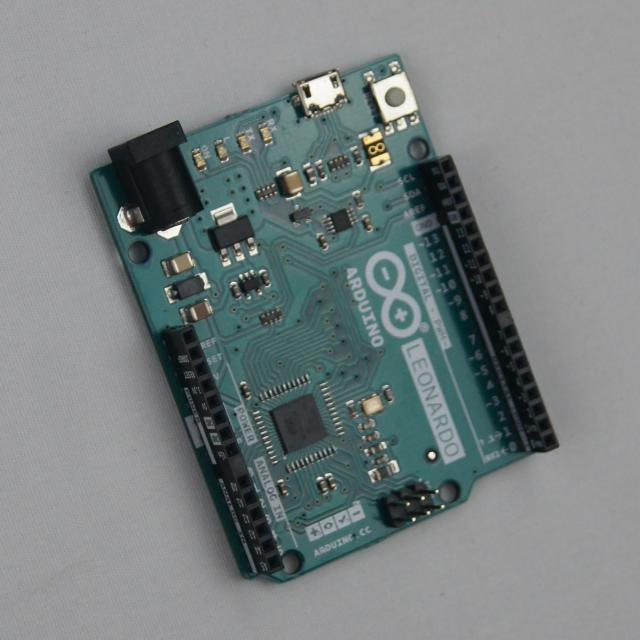Arduino-leonardo: (92, 55, 558, 582)
